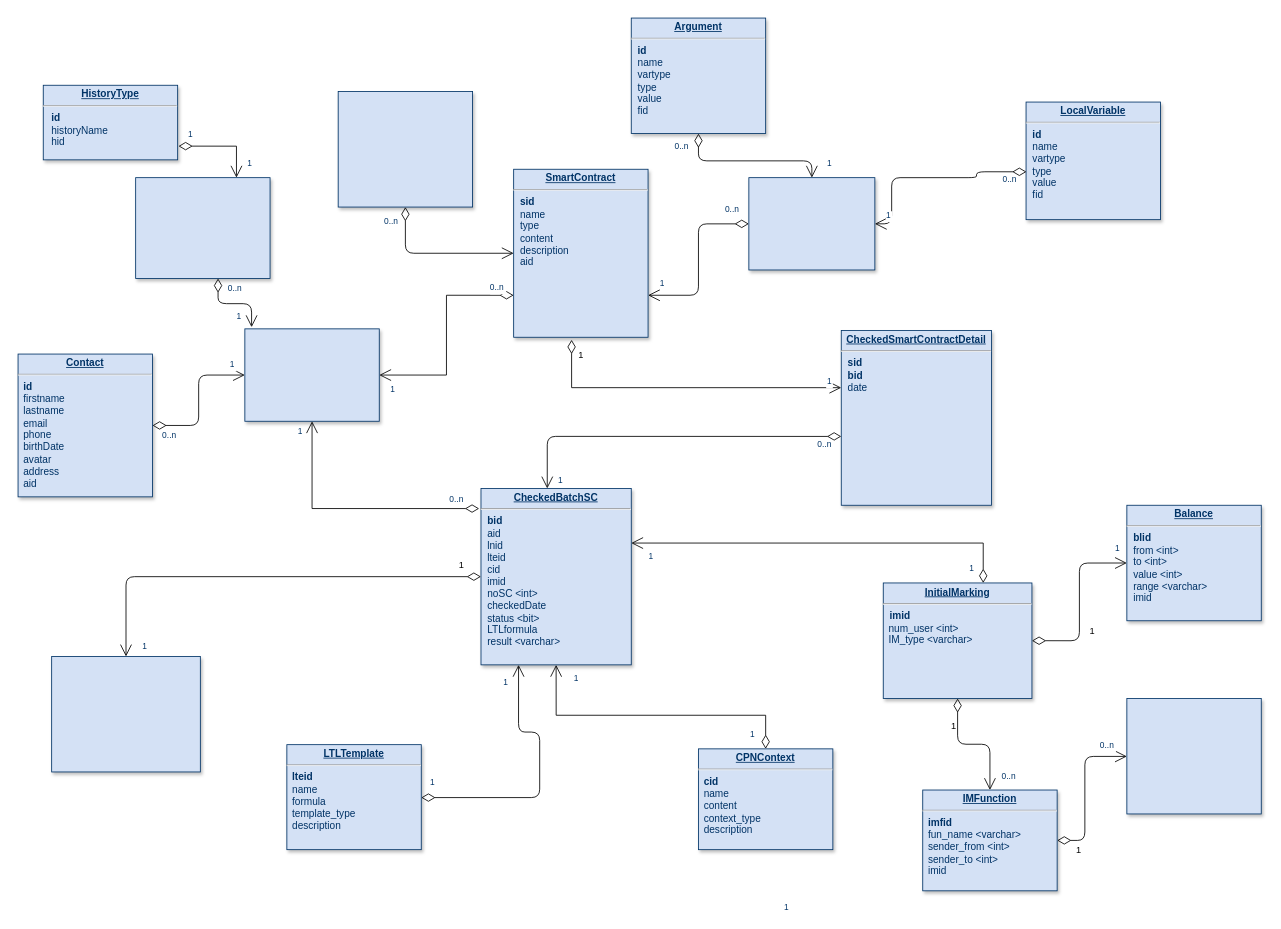
The diagram is 1281 pixels wide and 929 high, and some of its shapes have lost their labels. The shapes that lost their labels are listed below. From the top down, each one's centre as x and y in pixels, then its label:
pixel 406 150: GlobalVariable id name vartype type value sid
pixel 203 228: History hid description modifiedDate aid
pixel 812 224: Function fid name bodyContent sid
pixel 312 376: Account aid username password role
pixel 126 715: LNAFile lnid hcpnfile propfile
pixel 1194 757: IMArgument imaid arg_name <varchar> from <int> to <int> imfid
